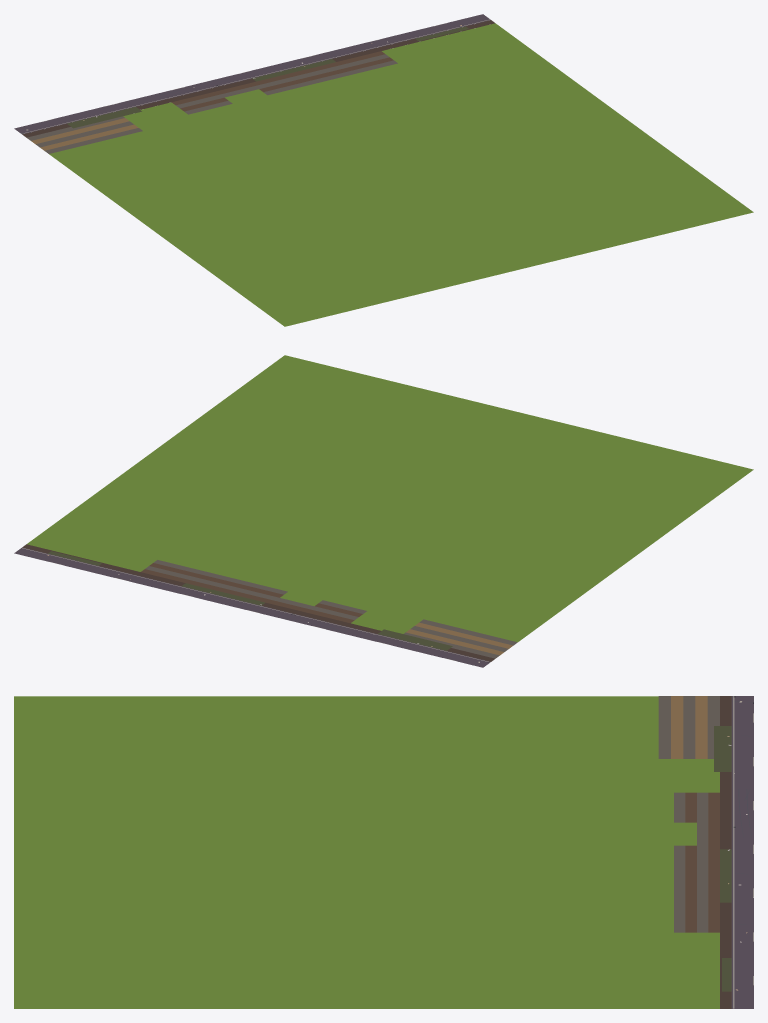
Rendered from cure-11-3.glb.
3 renders of one model, top to bottom at view 1: azimuth 30°, elevation 25°; view 2: azimuth 150°, elevation 25°; view 3: azimuth 270°, elevation 25°, orthographic. The views are drawn at different scales.
Parts seen in each view (by area): view 1: cure-11-3; view 2: cure-11-3; view 3: cure-11-3.
Part boxes in pixels (left/top/right/bottom): cure-11-3: left=14, top=14, right=753, bottom=326; cure-11-3: left=14, top=355, right=753, bottom=667; cure-11-3: left=14, top=696, right=753, bottom=1008.
Size of the model in its own units: 100 by 0.017 by 100.
